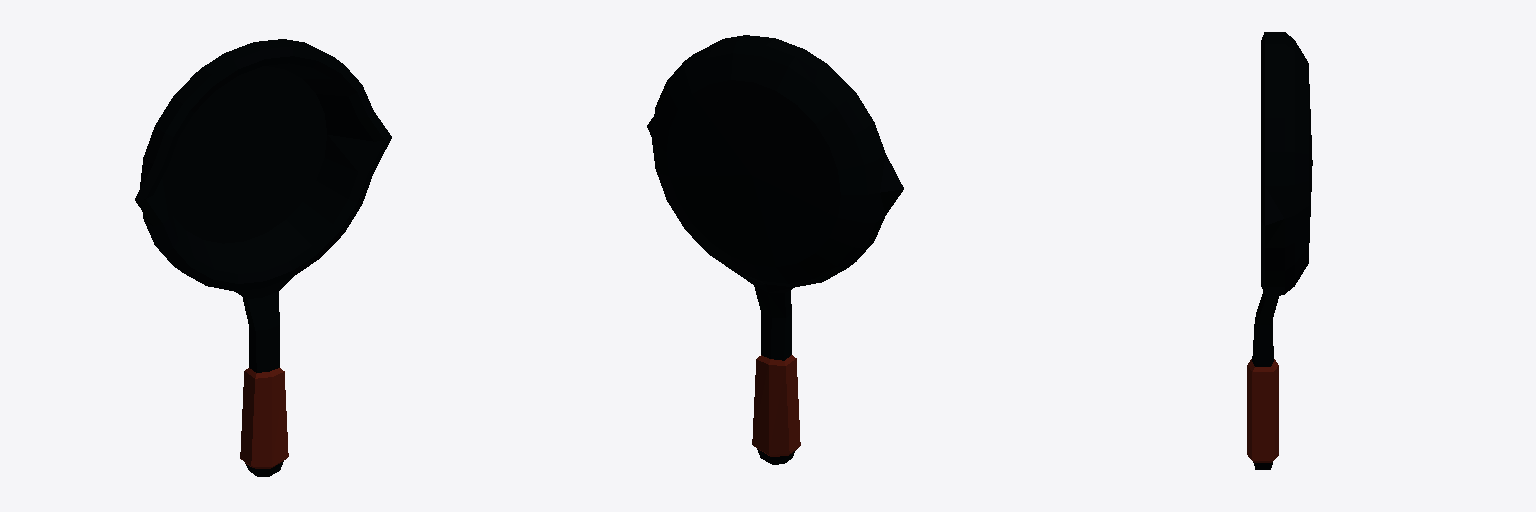
File: pan.obj
3 renders of one model, left to right at view 1: azimuth 30°, elevation 25°; view 2: azimuth 150°, elevation 25°; view 3: azimuth 270°, elevation 25°, orthographic.
Parts seen in each view (by area): view 1: pan_Cylinder.112; view 2: pan_Cylinder.112; view 3: pan_Cylinder.112.
Boxes of the visible parts, x1,y1,x2,y2 form: pan_Cylinder.112: [135, 39, 391, 476]; pan_Cylinder.112: [647, 35, 903, 464]; pan_Cylinder.112: [1247, 32, 1312, 469].
Size of the model in its own units: 0.9791 by 1.54 by 0.2147.